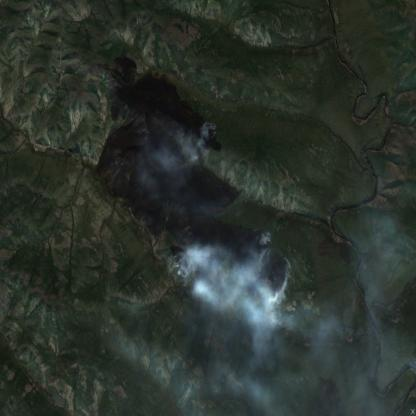fire: (166, 227, 294, 307), (191, 118, 220, 164)
